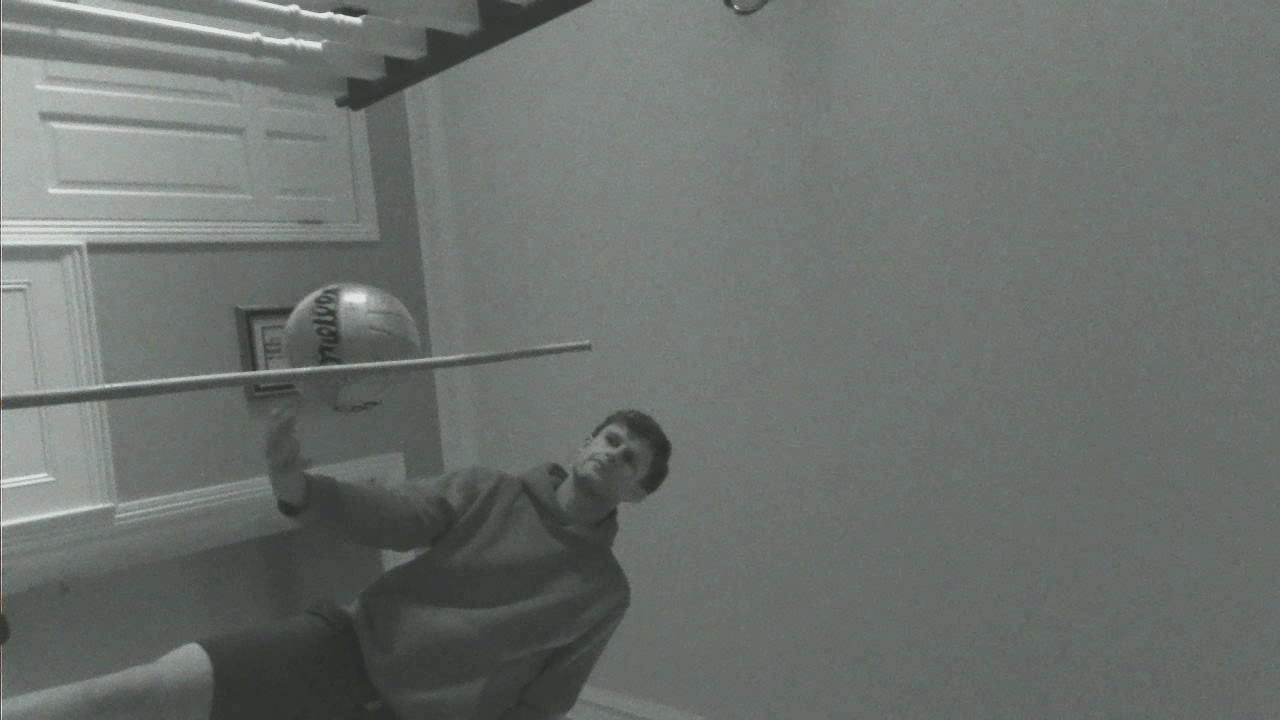Football-Spotter: (286, 283, 420, 367), (299, 380, 384, 410)
